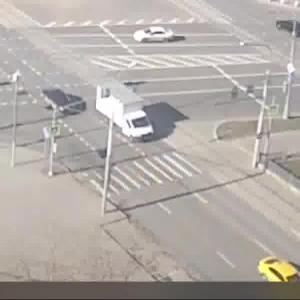car: (96, 80, 160, 144), (38, 83, 81, 119), (258, 254, 300, 283), (133, 26, 180, 45)
